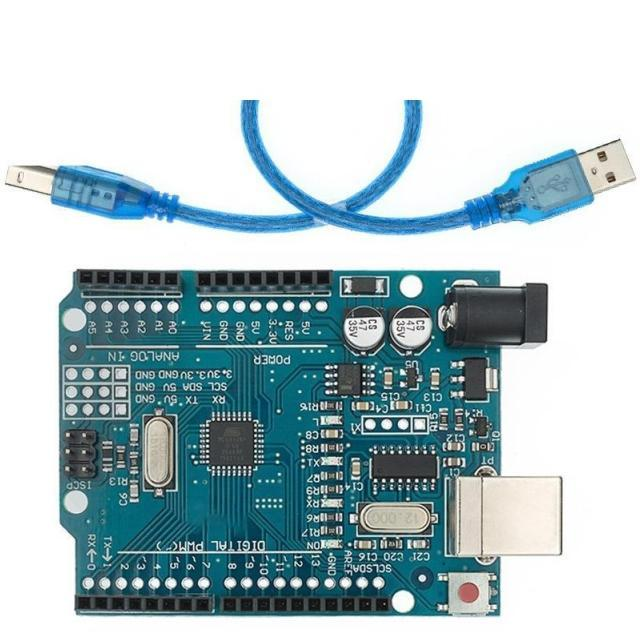Arduino: (38, 251, 586, 627)
